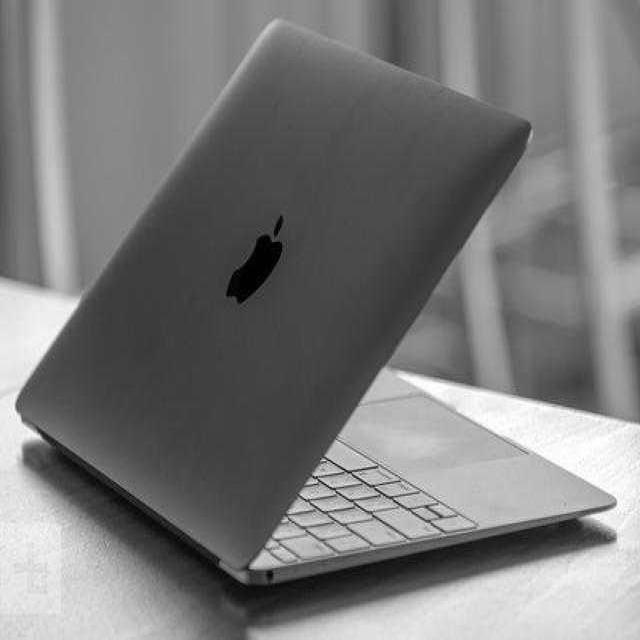laptop: (12, 42, 620, 596)
